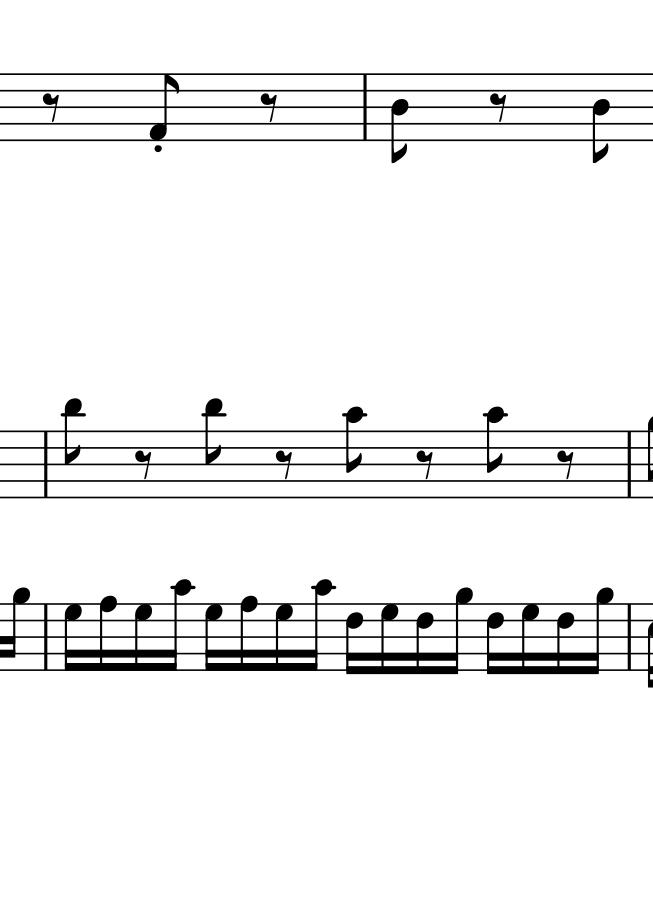16_10: (163, 580, 196, 672), (305, 578, 335, 674)
16_6: (485, 601, 506, 677), (414, 601, 435, 676), (345, 600, 365, 678), (555, 601, 576, 675)
16_7: (378, 599, 399, 677), (273, 599, 294, 676), (132, 600, 153, 674), (519, 600, 539, 677), (203, 600, 223, 676), (62, 600, 82, 675)
16_8: (97, 593, 118, 674), (238, 593, 259, 674)
16_9: (3, 584, 30, 674), (446, 587, 473, 675), (587, 587, 614, 675)
8_1: (147, 71, 180, 144)
8_10: (343, 406, 367, 501), (484, 406, 508, 501)
8_11: (203, 394, 227, 503), (62, 395, 85, 503)
8_4: (591, 74, 612, 164), (389, 75, 410, 164)
Rests8: (40, 91, 64, 124), (259, 91, 281, 123), (488, 91, 510, 123), (274, 448, 295, 481), (556, 448, 577, 481), (134, 448, 154, 481), (416, 448, 436, 480)
Single_barline: (621, 604, 637, 669), (622, 431, 637, 496), (39, 603, 53, 669), (38, 433, 52, 495)
Slur: (357, 73, 373, 143)
